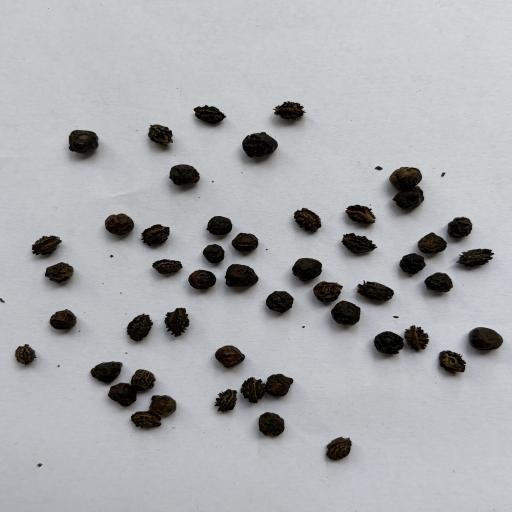Black_pepper: (43, 122, 115, 167), (242, 125, 284, 164), (92, 208, 142, 236), (251, 409, 289, 439), (165, 164, 207, 191), (210, 344, 256, 368), (465, 326, 507, 350), (224, 262, 261, 289), (263, 372, 299, 399), (41, 261, 78, 286), (392, 187, 429, 212), (47, 305, 81, 332), (89, 358, 125, 383), (104, 383, 139, 408), (388, 164, 426, 187), (415, 230, 453, 253), (329, 301, 363, 326), (369, 331, 403, 355), (265, 288, 296, 314), (292, 256, 322, 282), (148, 393, 188, 412), (204, 211, 232, 238), (398, 251, 427, 277), (231, 230, 261, 254), (447, 214, 475, 239), (185, 269, 218, 289), (310, 281, 343, 301), (423, 272, 456, 292), (129, 366, 158, 388), (201, 242, 225, 264)
papaya_seed: (321, 427, 364, 468), (355, 277, 399, 304), (456, 247, 502, 272), (144, 116, 176, 148), (436, 348, 468, 379), (270, 94, 308, 120), (125, 409, 166, 433), (337, 231, 380, 253), (125, 313, 154, 345), (292, 206, 326, 233), (140, 222, 175, 248), (163, 306, 191, 338), (190, 103, 228, 125), (239, 373, 265, 405), (403, 324, 431, 353), (147, 255, 183, 277), (213, 387, 239, 417), (342, 204, 380, 224), (15, 344, 41, 366)
